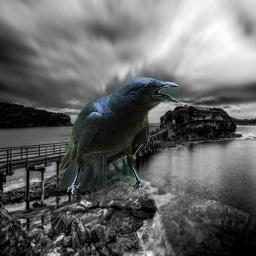Crow: (55, 77, 181, 202)
